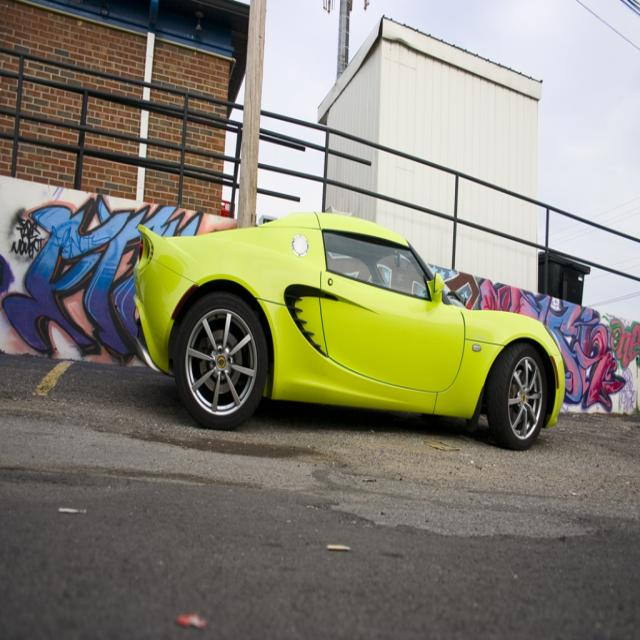car: (81, 204, 582, 450)
